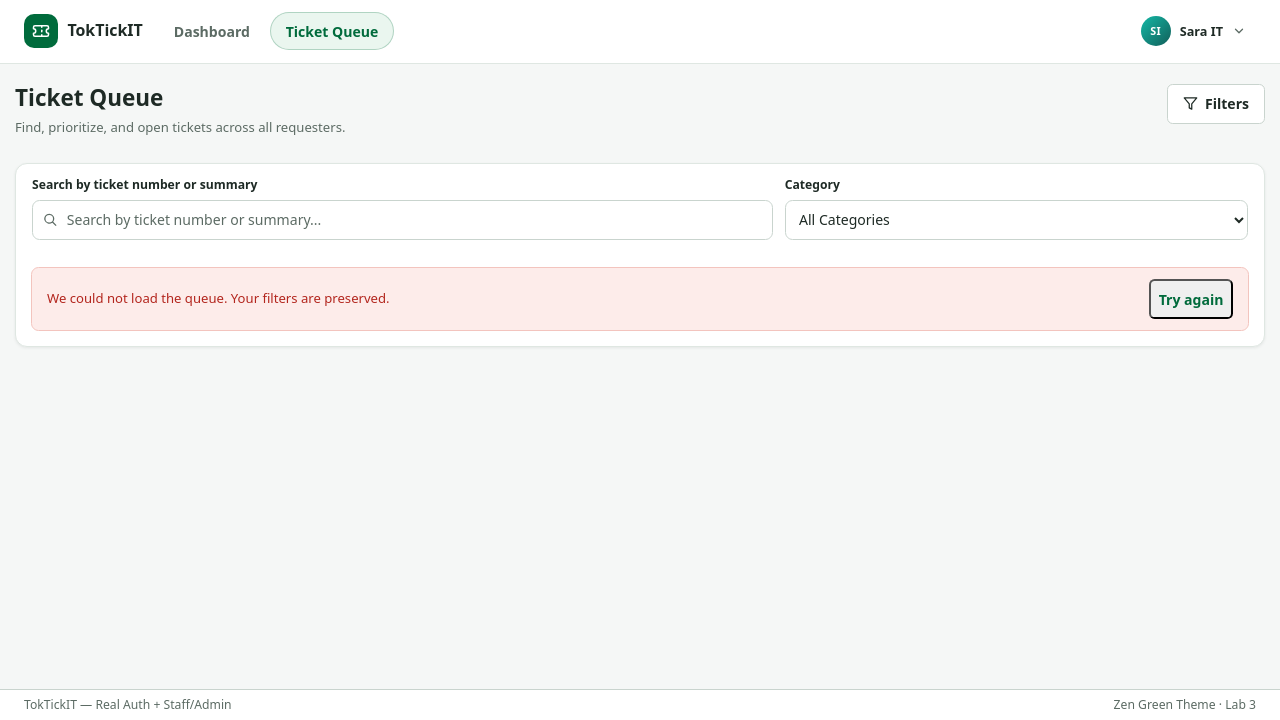
it: T-QUEUE-05f — feedback states › failure shows the alert banner and preserves filters on Try again
This screenshot has width=1280, height=720.
Expected: the heading "Ticket Queue" is shown, [15, 82, 163, 113]
Expected: the message shows "We could not load the queue. Your filters are preserved.", [47, 289, 390, 307]
Type "vpn" into the search field labelled "Search by ticket number or summary" at (403,220), box [32, 200, 773, 240]
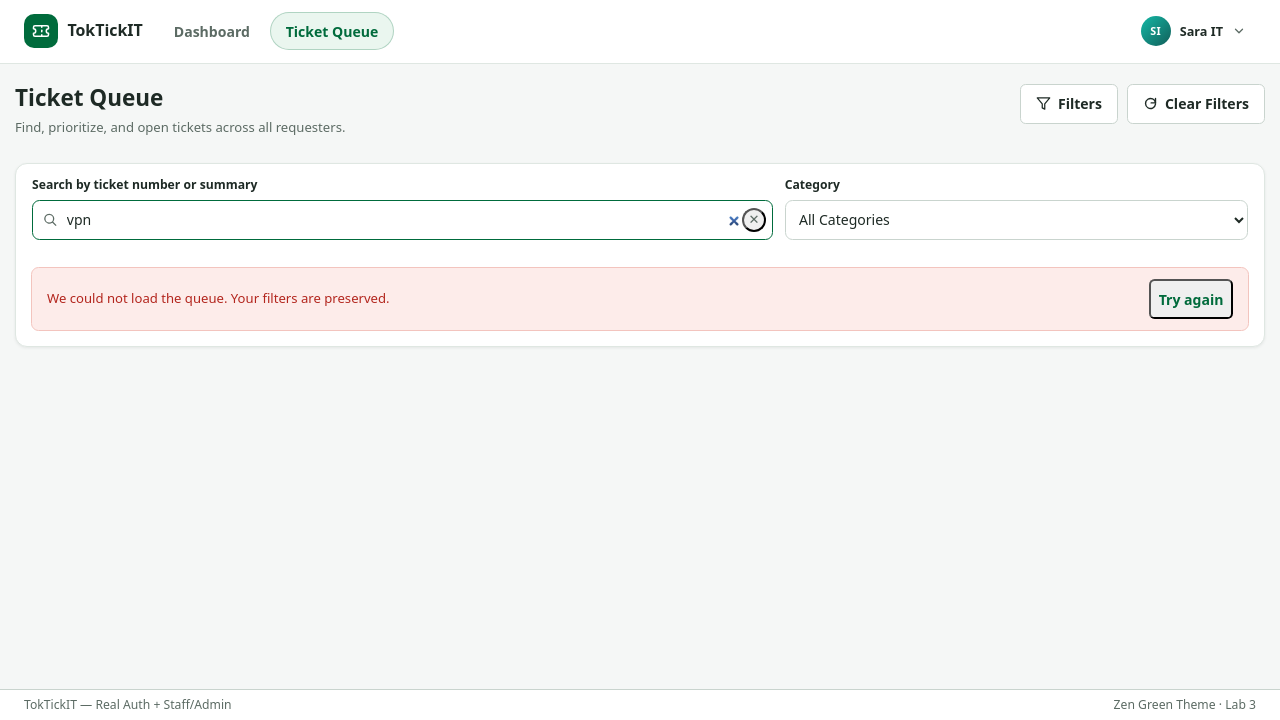
Click the button "Try again" at (1191,299), box [1149, 279, 1233, 319]
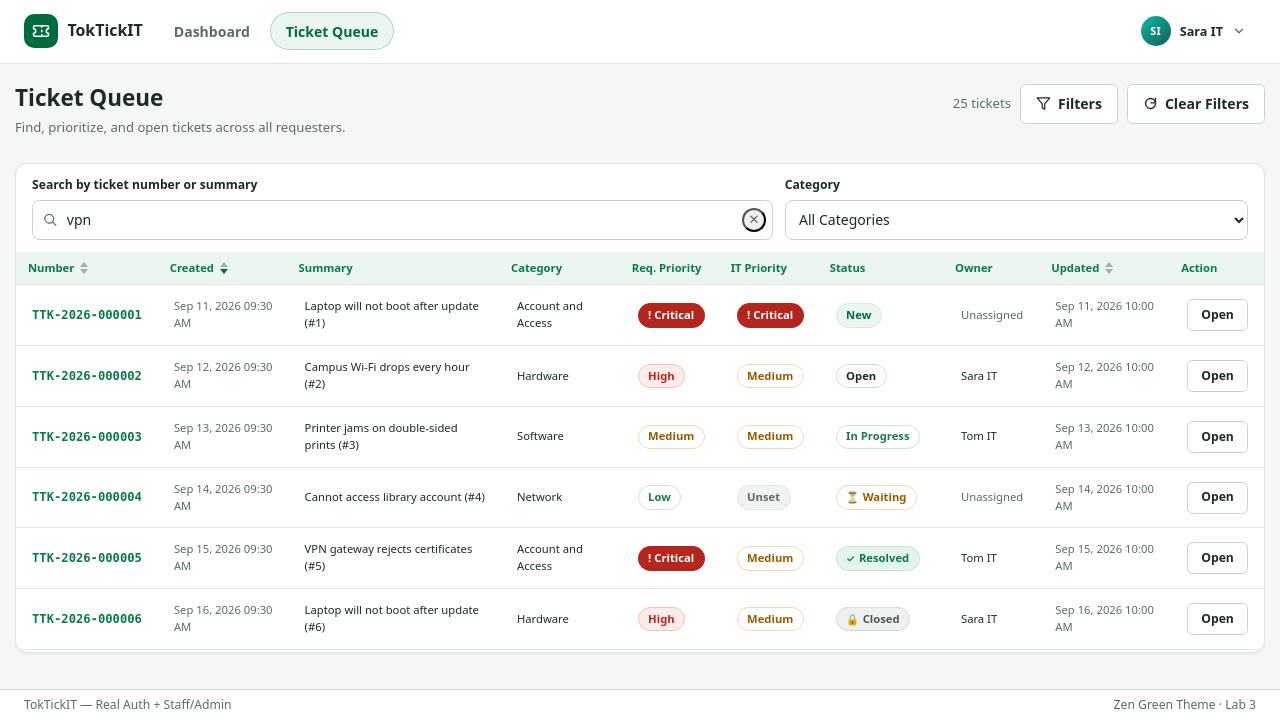
Expected: the message "We could not load the queue. Your filters are preserved. Try again" is gone
